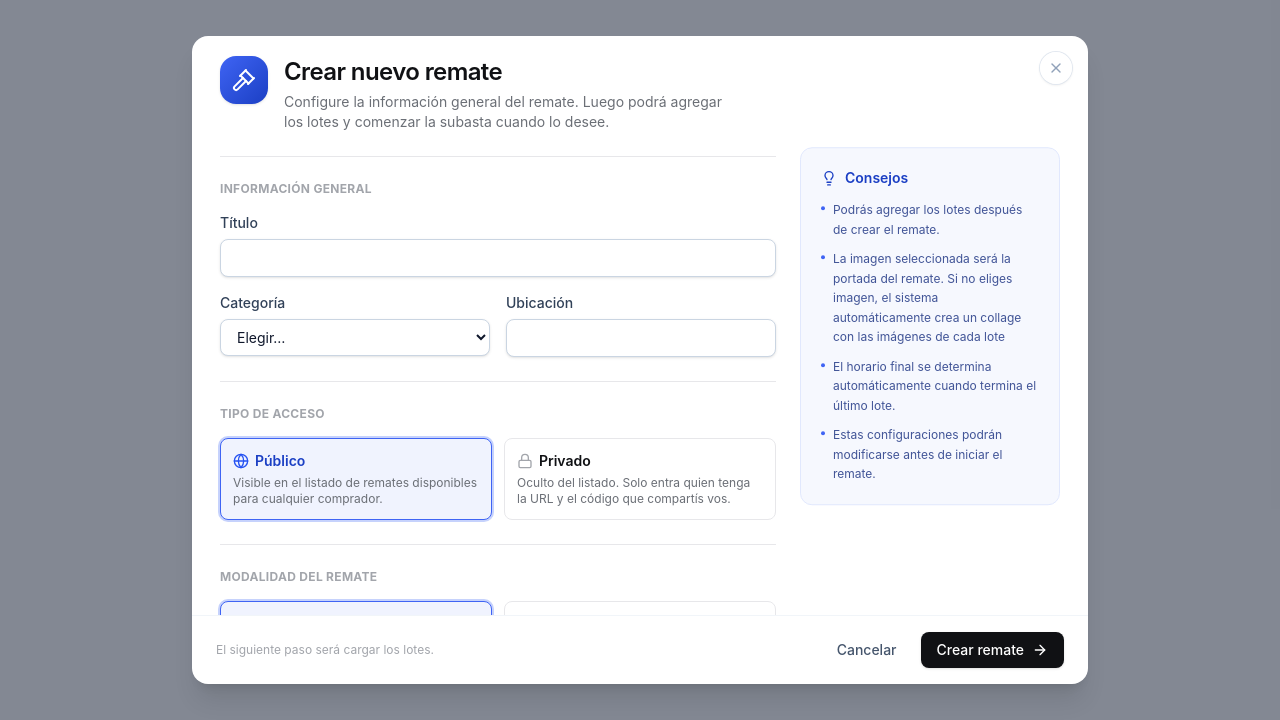
Test: RemateFormModal › ante un error del backend, lo muestra sin cerrar el modal
Type "Remate de prueba" into the field labelled "Título". click: (498, 258)
box: left=220, top=239, right=776, bottom=277
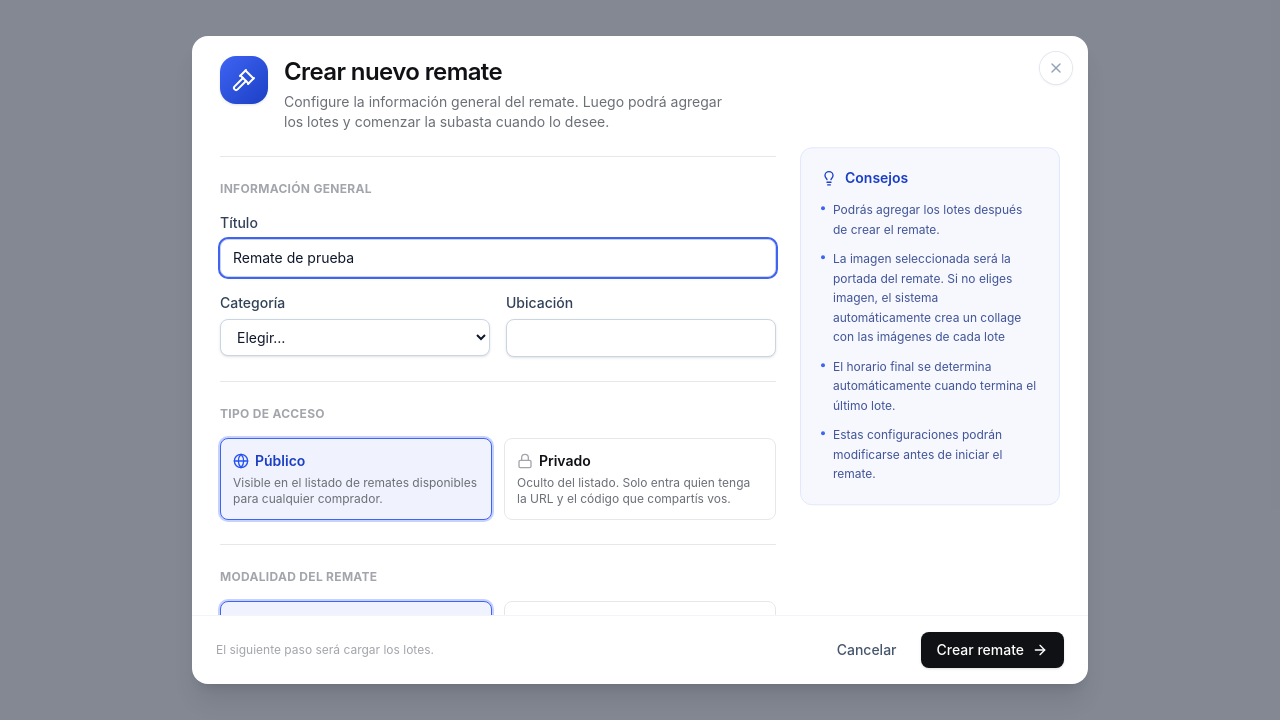
Select "Hacienda y ganadería" in the dropdown labelled "Categoría". click: (355, 338)
box: left=220, top=319, right=490, bottom=356
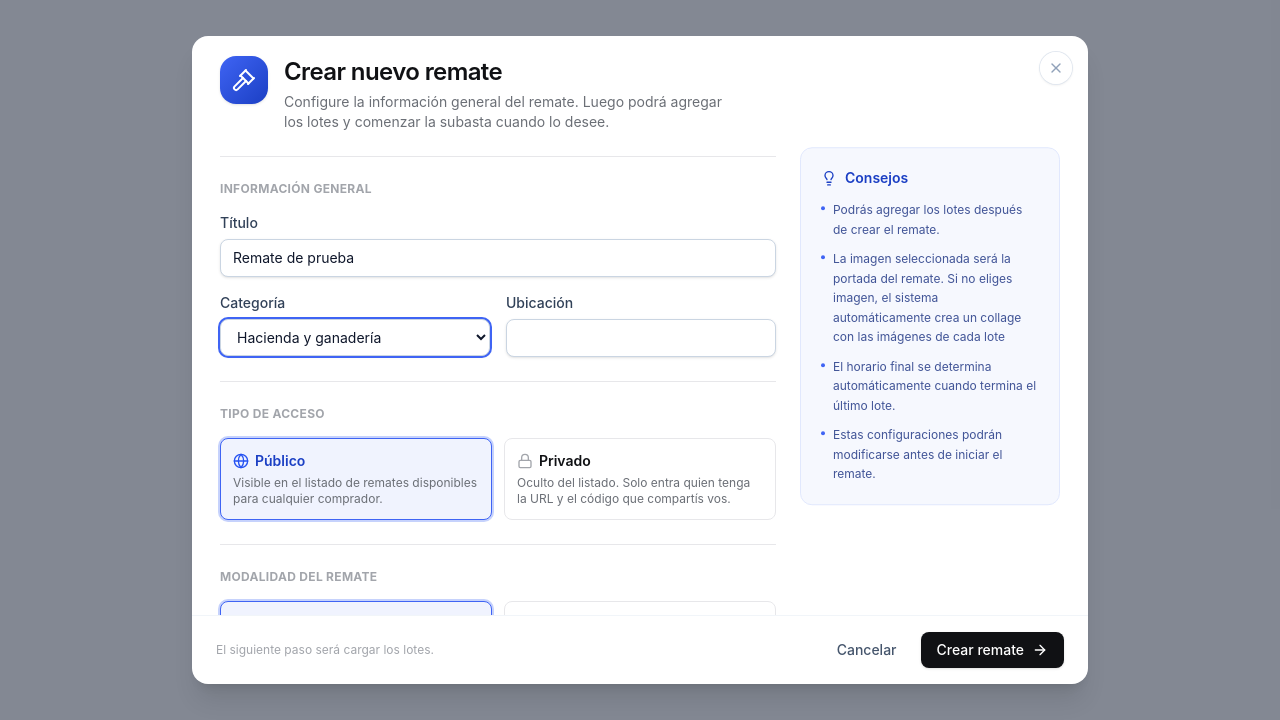
Click the button "Crear remate". click: click(992, 650)
box: left=920, top=632, right=1064, bottom=668
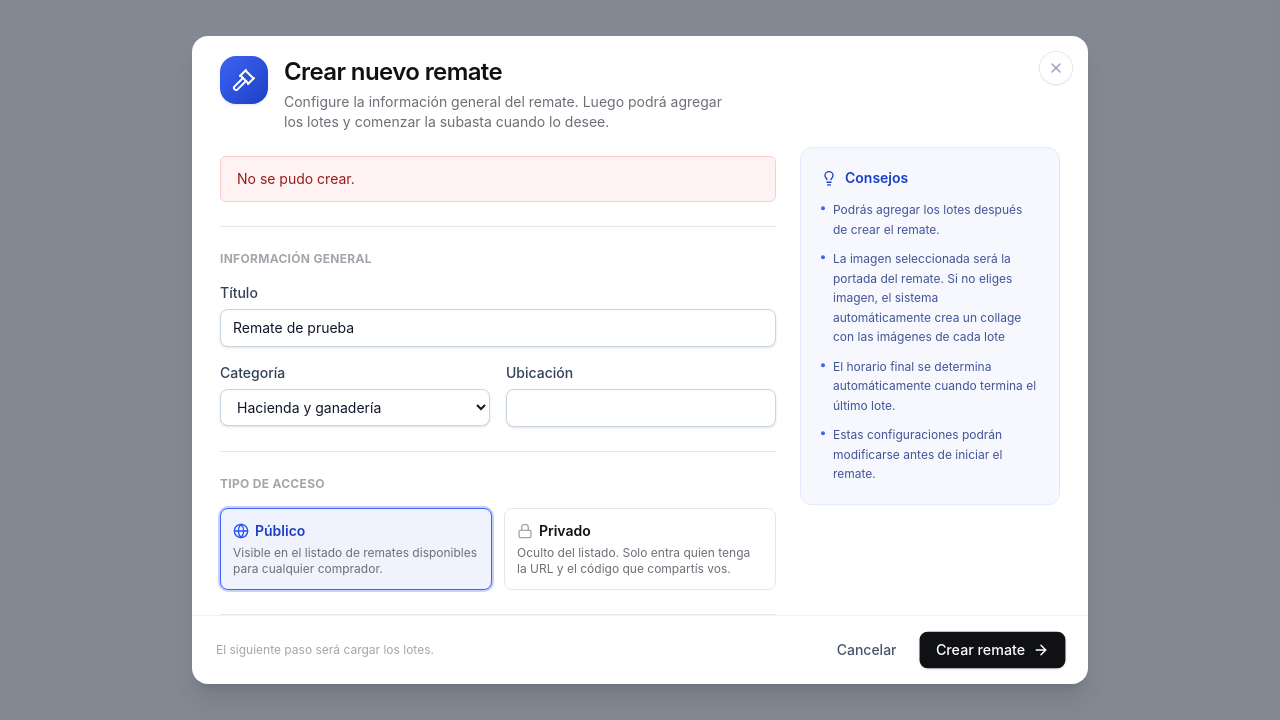
expect the text "No se pudo crear." is shown: met, box left=220, top=156, right=776, bottom=202
